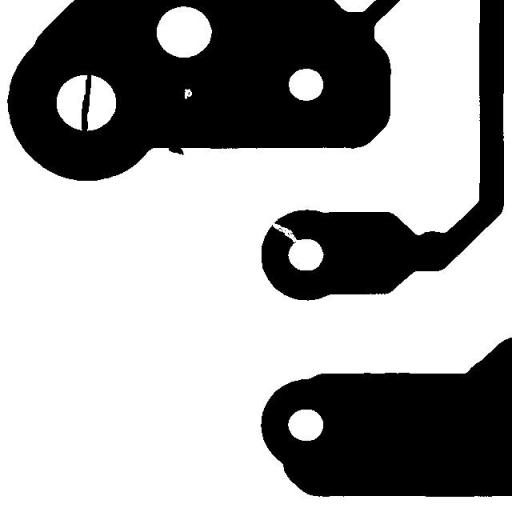open: (261, 214, 309, 251)
pin-hole: (177, 81, 199, 106)
short: (74, 66, 98, 142)
spur: (161, 138, 191, 162)
